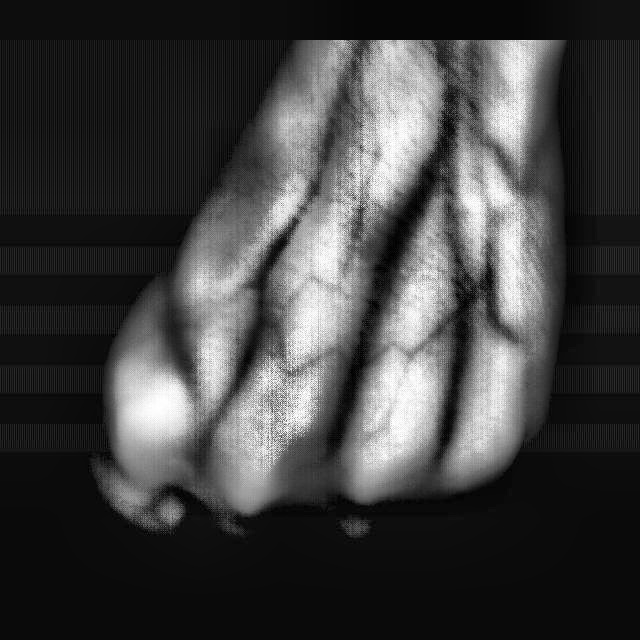Vein: (344, 145, 454, 359)
